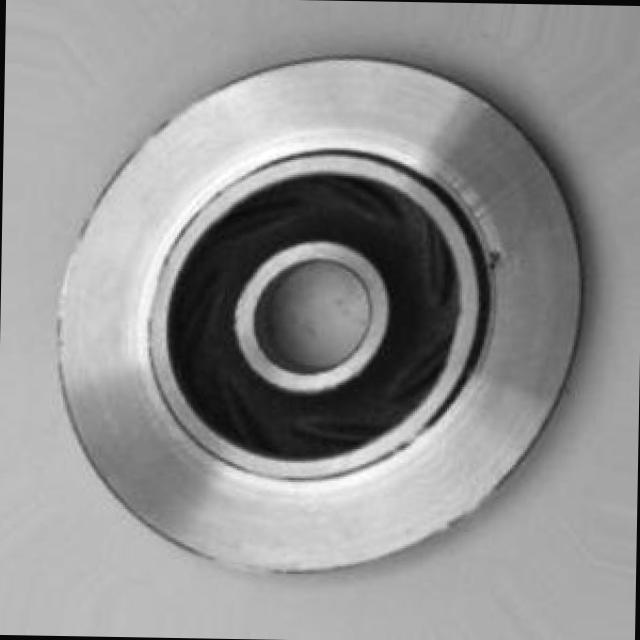Defect: (480, 242, 510, 272)
